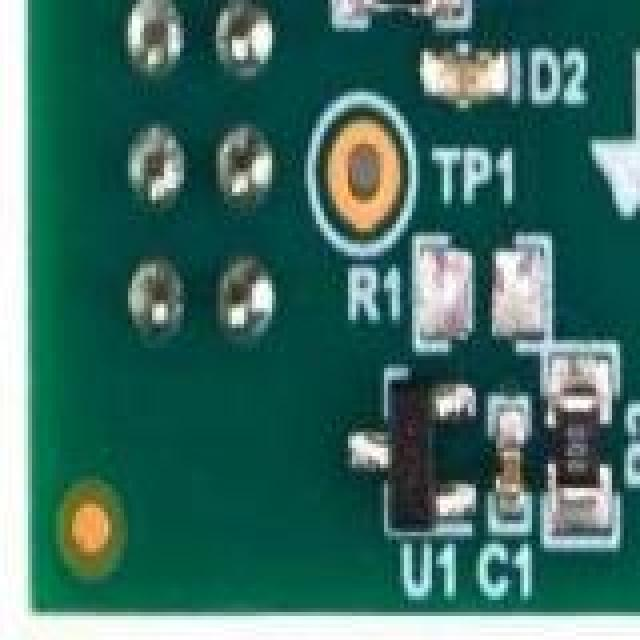LED: (440, 40, 504, 116)
capacitor: (492, 404, 528, 530)
resistor: (560, 384, 610, 534), (324, 0, 472, 28)
transistor: (360, 352, 474, 592)
